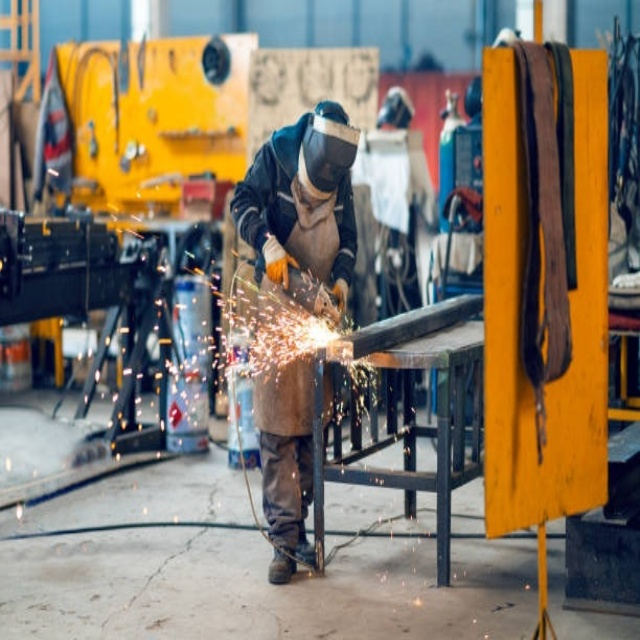Guantes: (262, 236, 297, 289), (331, 278, 349, 317)
